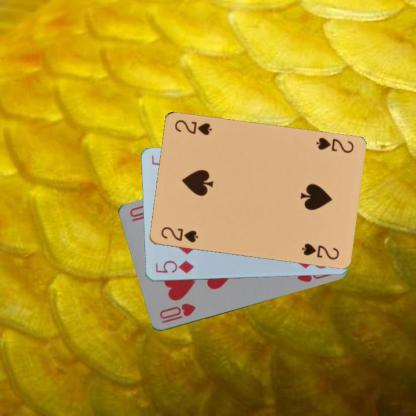10h: (157, 301, 197, 325)
2s: (158, 224, 199, 245), (313, 135, 355, 154)
5d: (152, 258, 194, 274)
